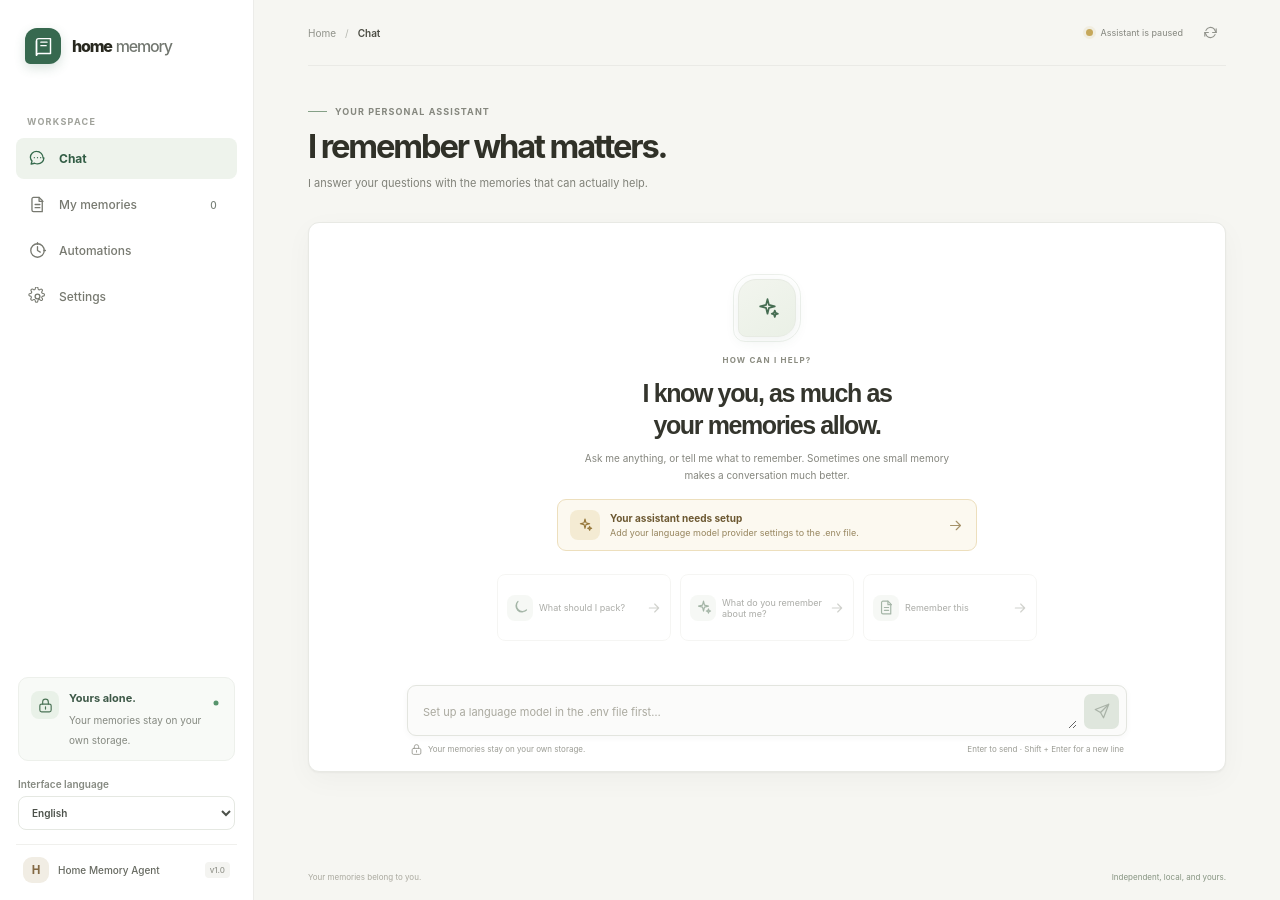
Test: Home Memory web interface › displays stored content as text and supports search
The image size is (1280, 900).
Check: the heading "I remember what matters." is shown, box [308, 126, 666, 166]
Select "Magyar" in the dropdown labelled "Interface language" at (126, 813), box [18, 796, 235, 830]
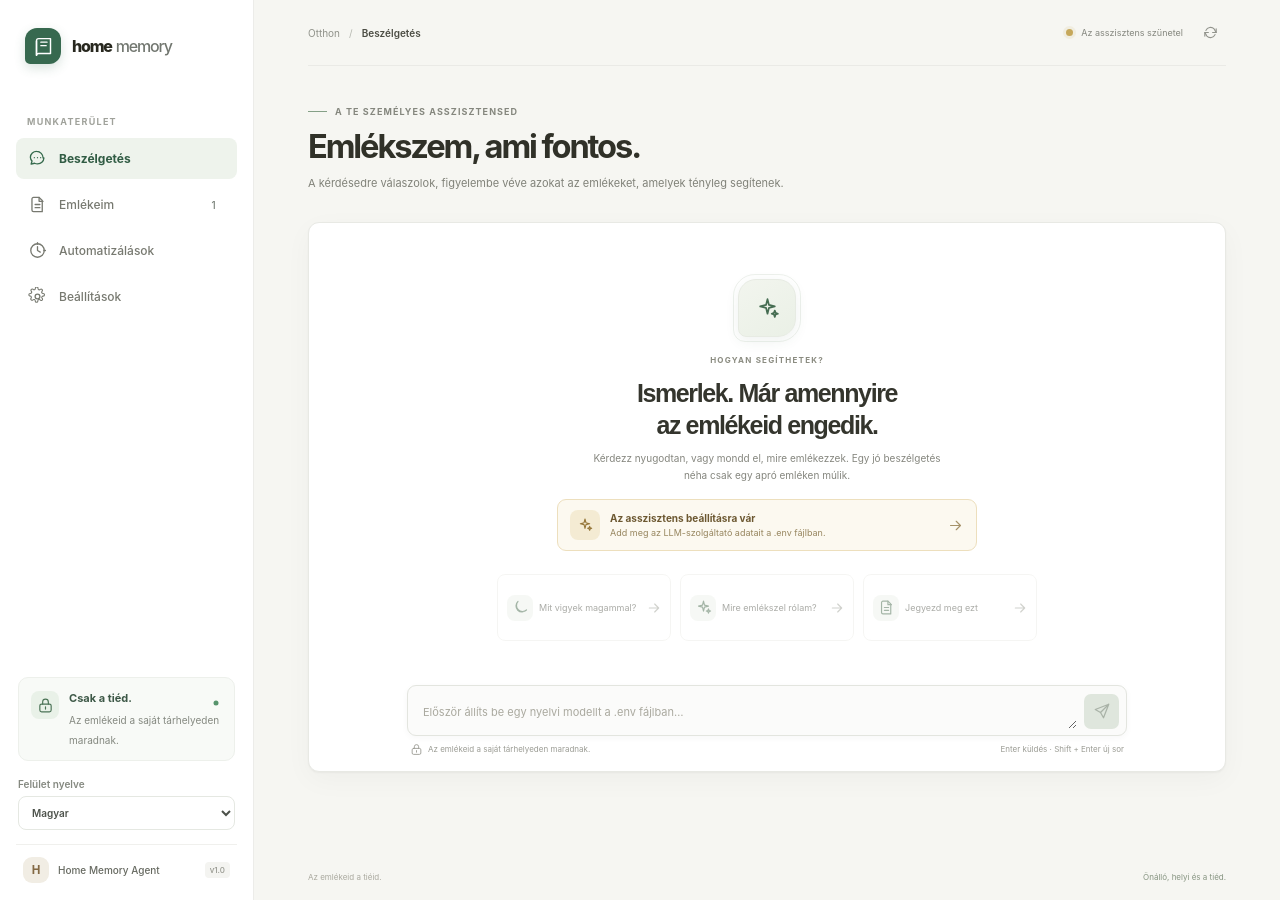
Check: the heading "Emlékszem, ami fontos." is shown, box [308, 126, 640, 166]
Click the button "Emlékeim 1".
click(126, 204)  # box [16, 184, 237, 225]
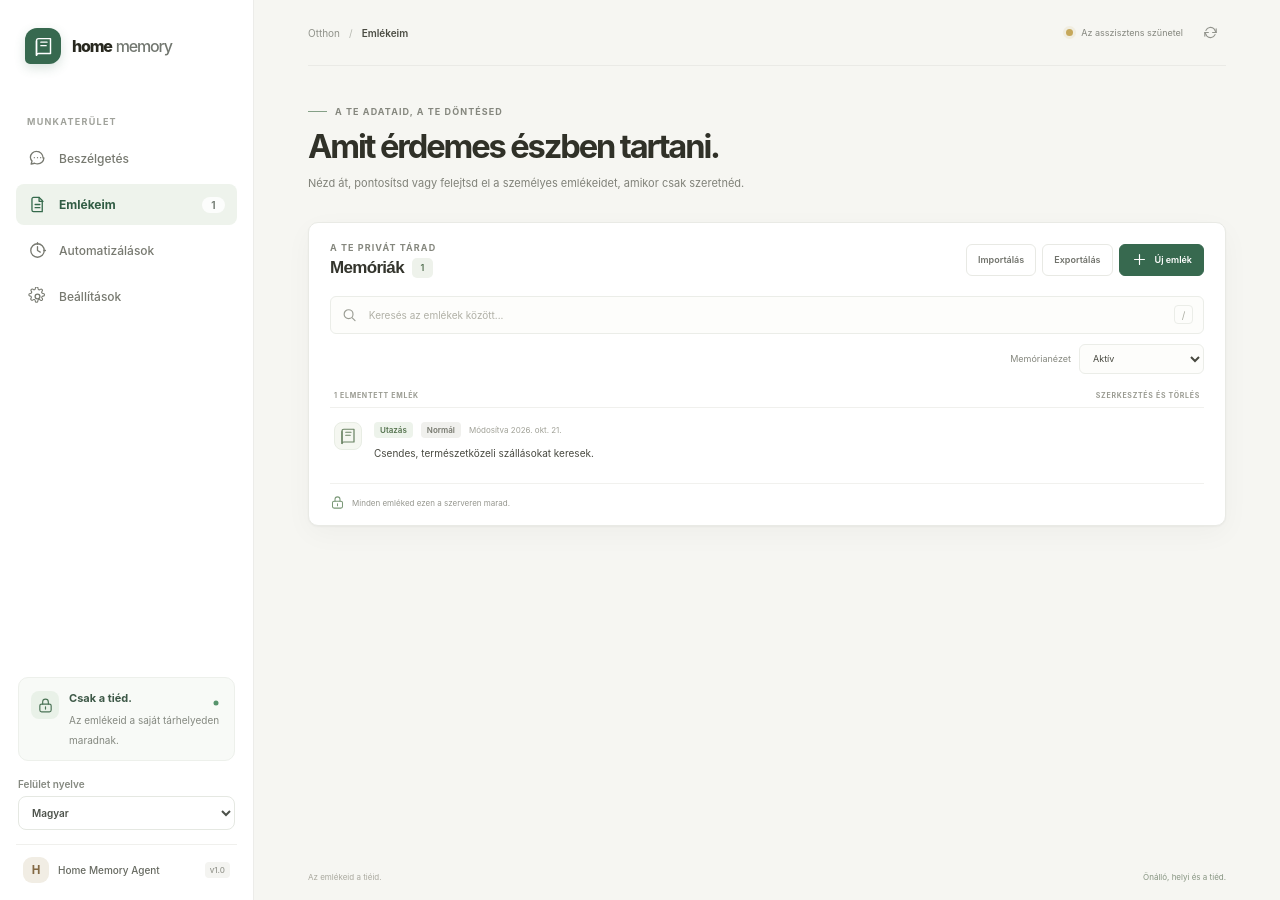
Check: the text "Csendes, természetközeli szállásokat keresek." is shown, box [374, 447, 594, 459]
Type "tengerpart" into the field named "Keresés az emlékek között".
click(766, 315); type("tengerpart")  # box [367, 308, 1165, 322]
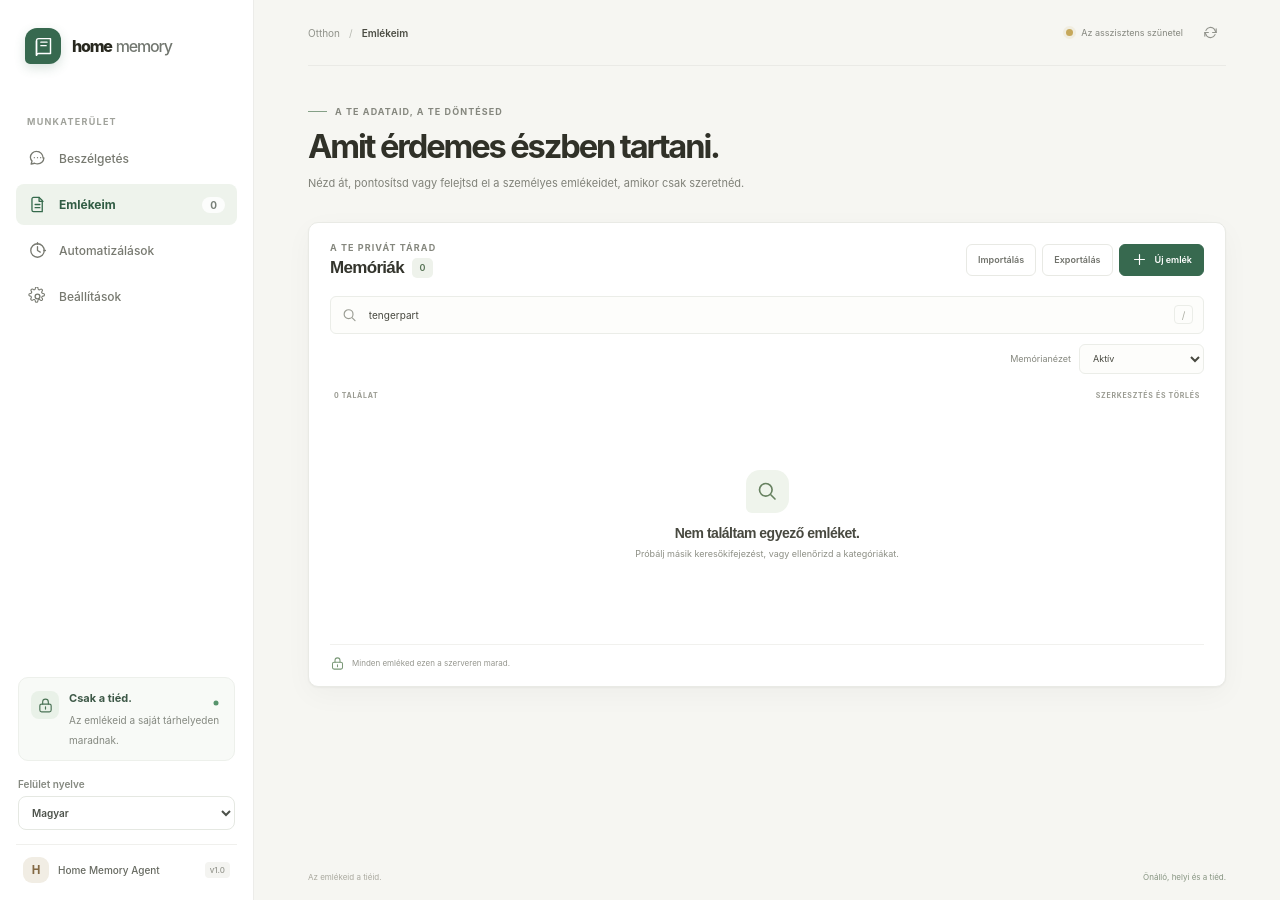
Check: the heading "Nem találtam egyező emléket." is shown, box [675, 525, 859, 541]
